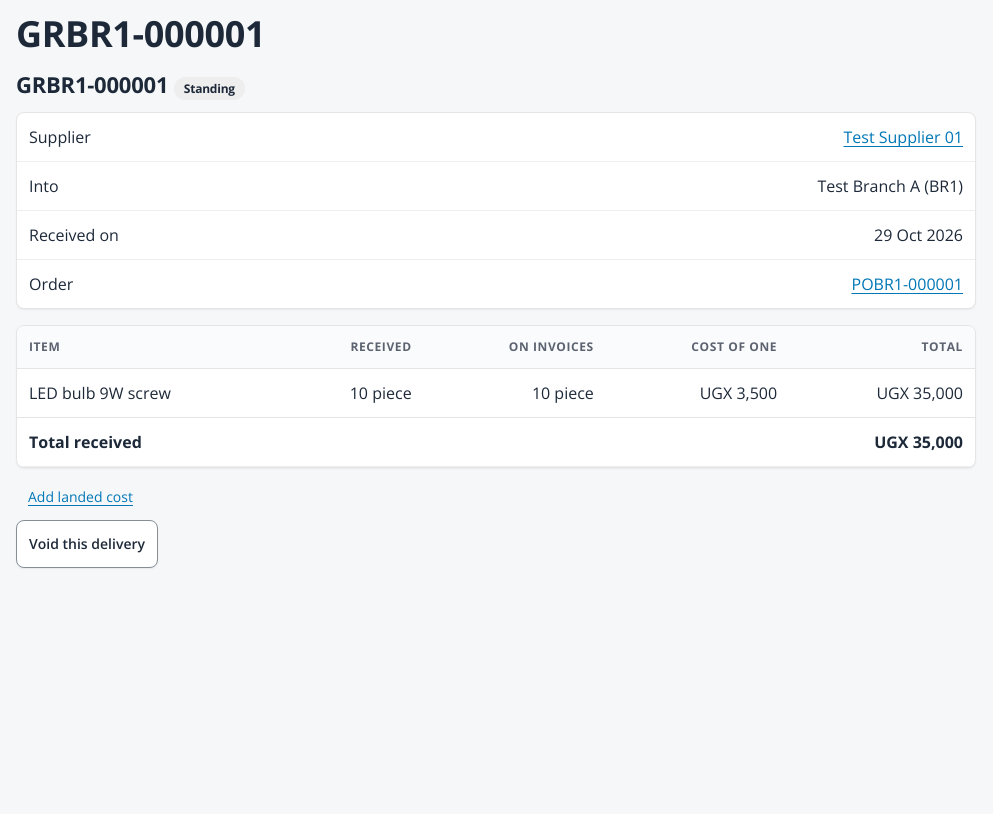
Test case: a delivery › cannot be voided once it is on a supplier invoice, and says so in plain words
Click the button "Void this delivery".
click(87, 544)  # box [16,520,158,568]
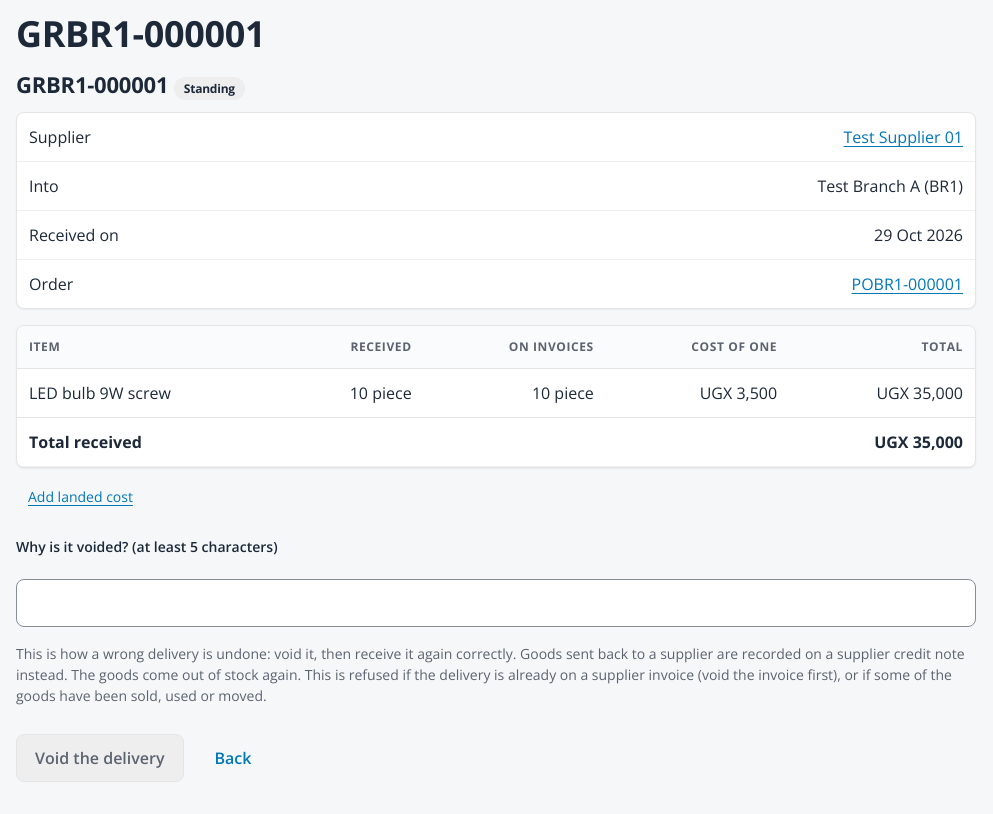
Type "Wrong delivery" into the field labelled "Why is it voided? (at least 5 characters)".
click(496, 603); type("Wrong delivery")  # box [16,579,976,627]
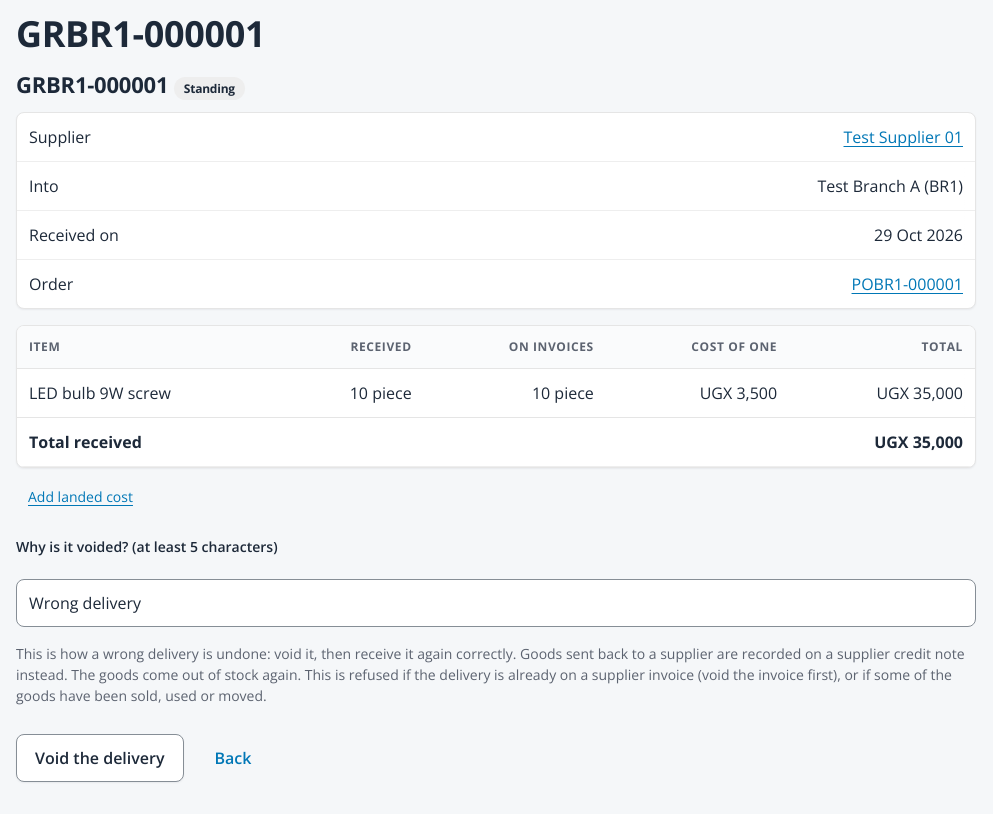
Click the button "Void the delivery".
click(100, 758)  # box [16,734,184,782]
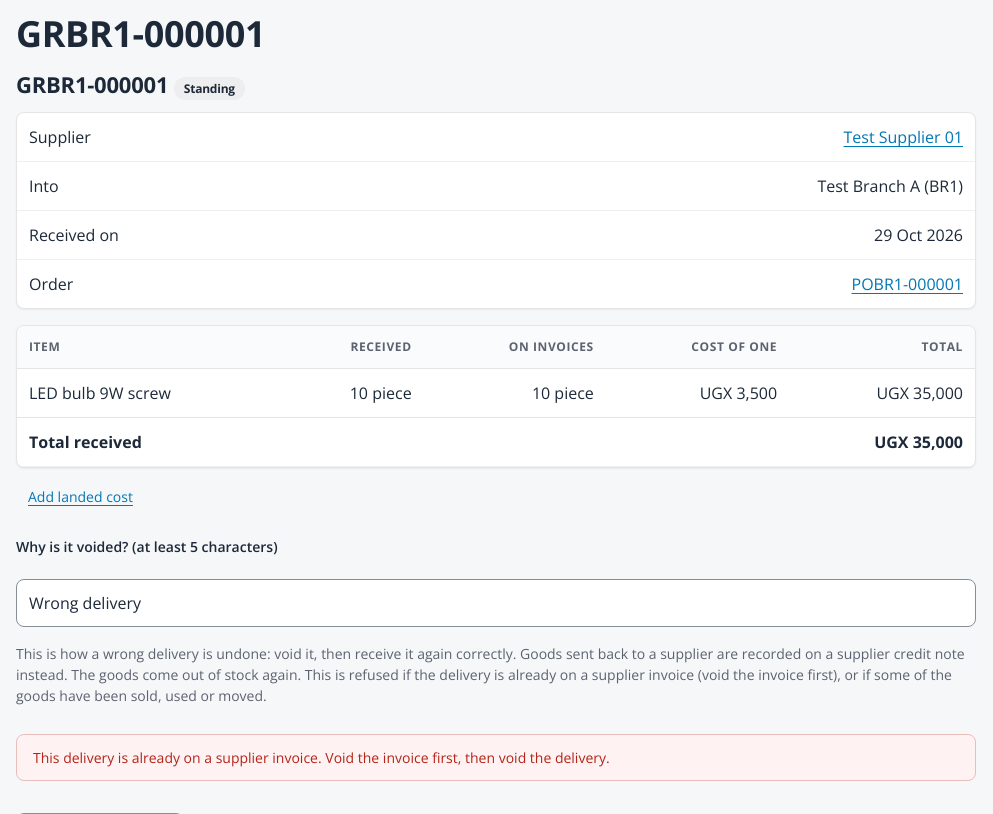
Expected: the message shows "already on a supplier invoice", [33,748,610,767]
